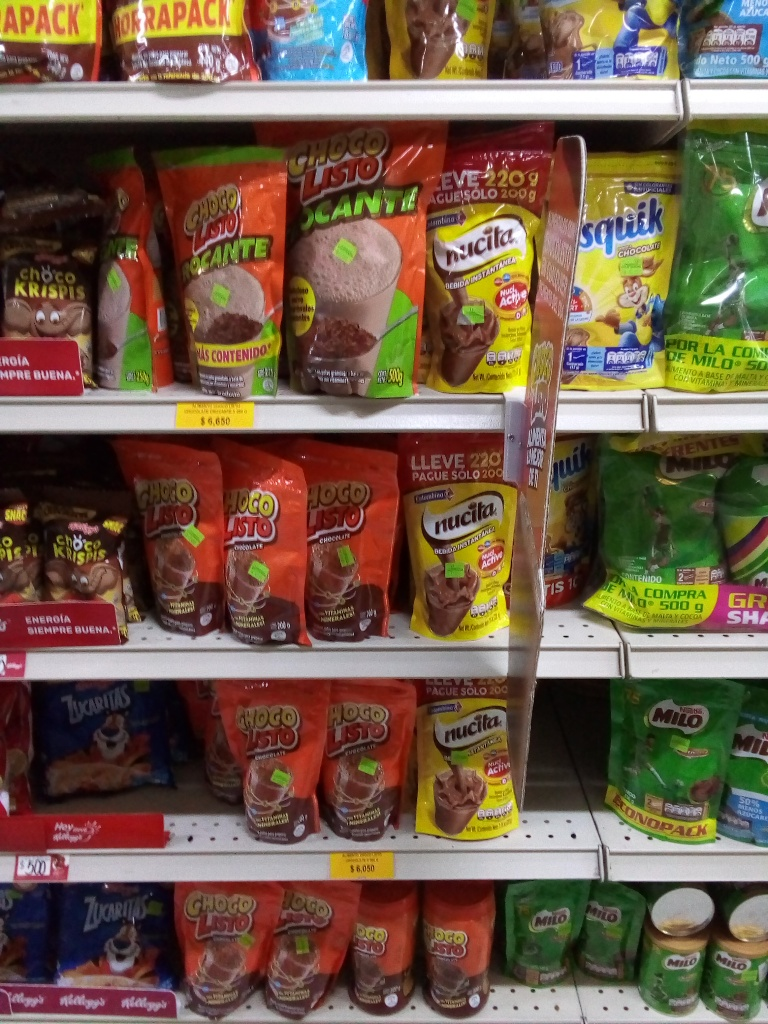COL0170102DYP25000: (74, 136, 182, 398)
COL0170102DYP50000: (262, 120, 446, 406)
COL0170103DYP20000: (287, 432, 403, 645)
COL0170103TRR30000: (420, 882, 498, 1014)
COL0170203DYP10000: (502, 882, 588, 986)
COL0170203DYP25000: (610, 675, 743, 846)
COL0170203DYP50000: (591, 423, 728, 632)
COL0170203LAT20000: (647, 935, 708, 1017)
COL0170205DYP20000: (728, 699, 768, 843)
